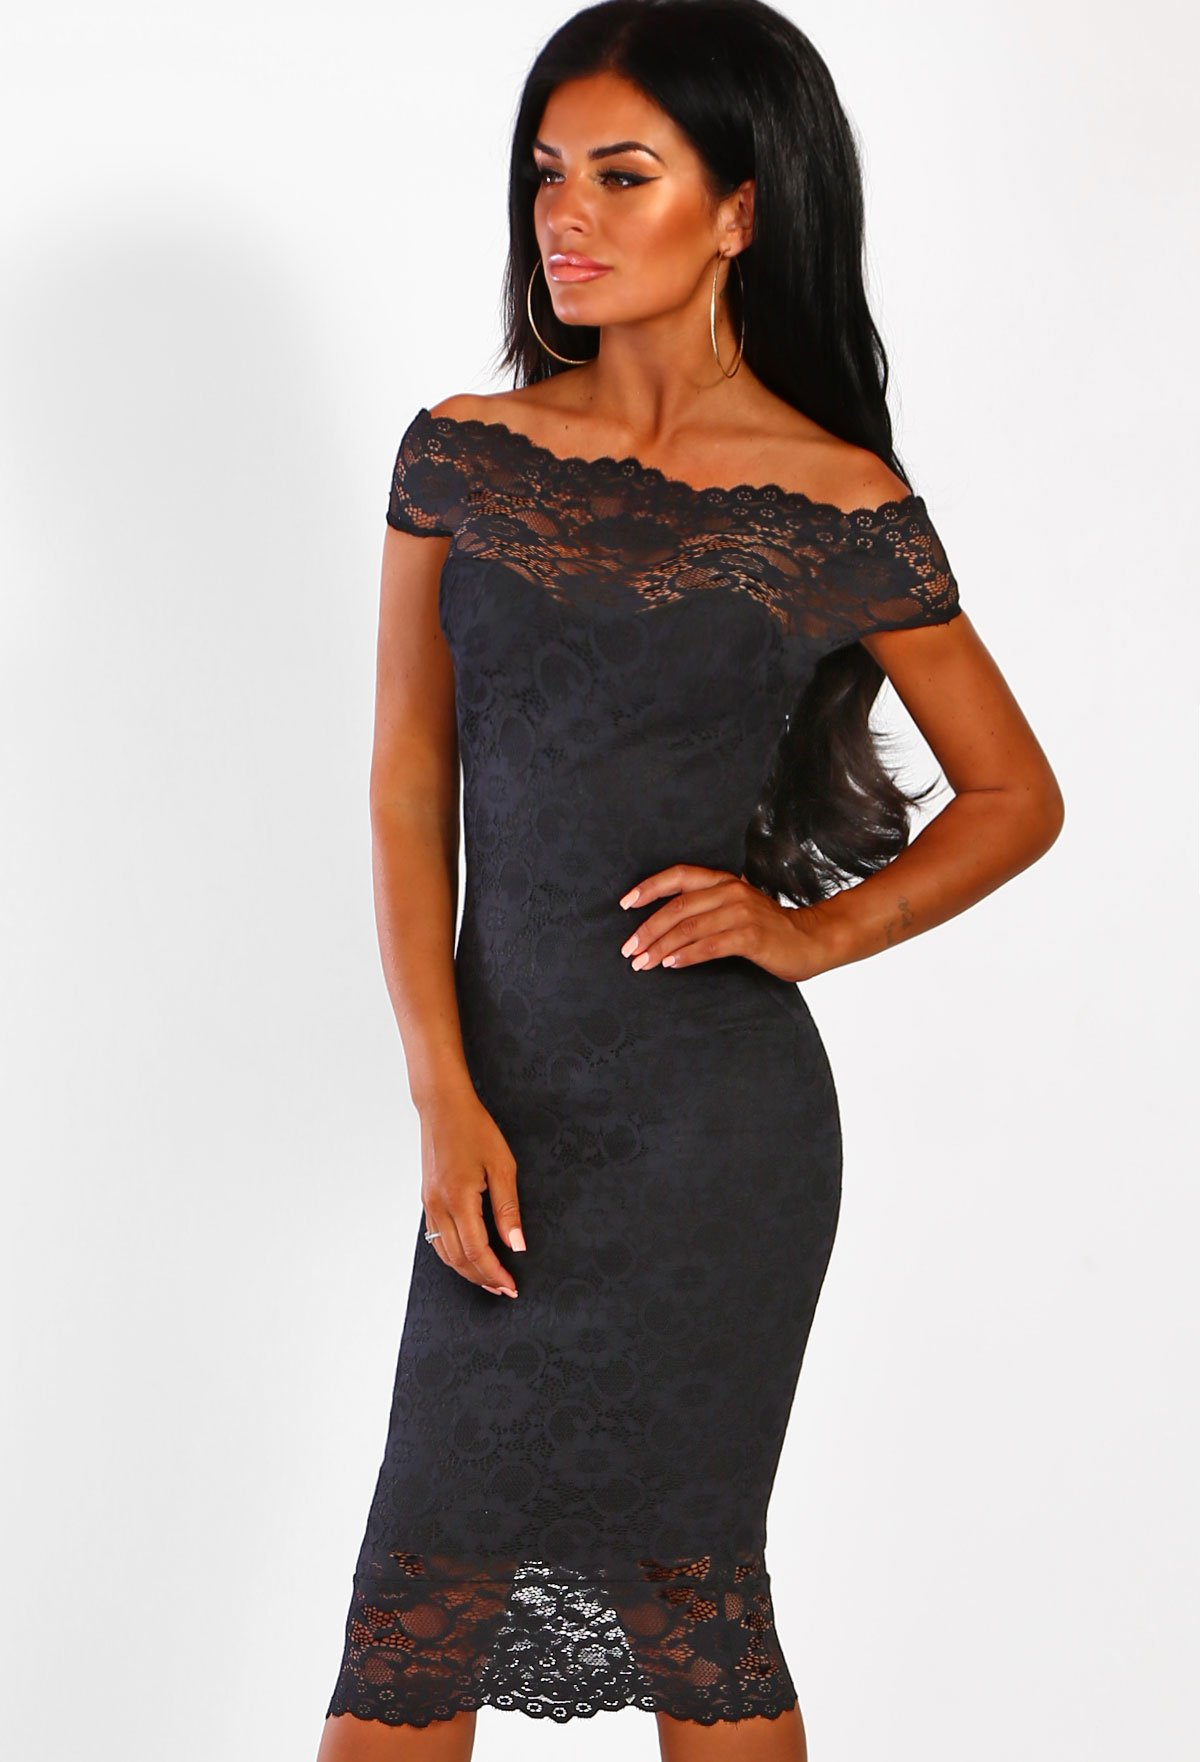S_dress: (283, 416, 958, 1692)
